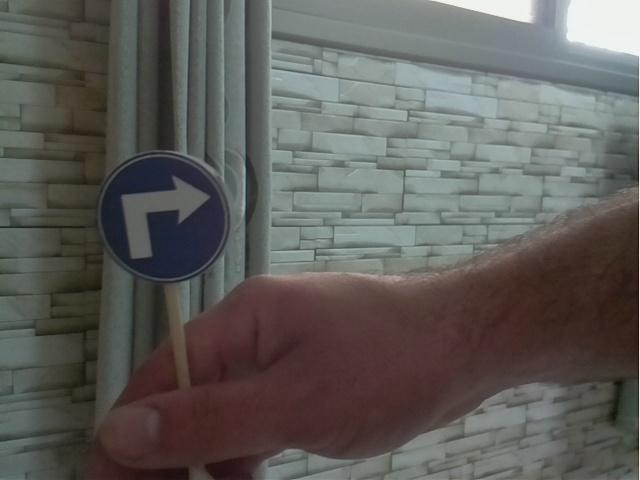turn: (89, 149, 245, 283)
